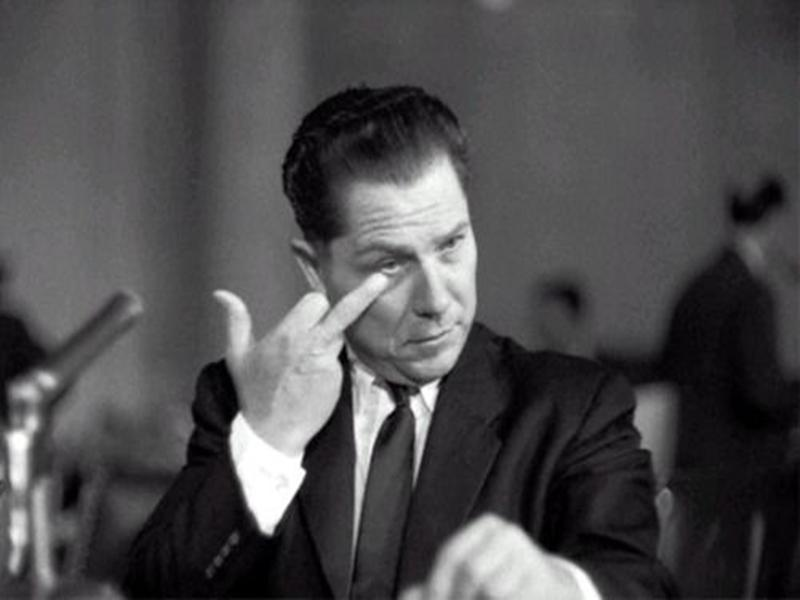flipping_the_bird: (202, 268, 395, 448)
